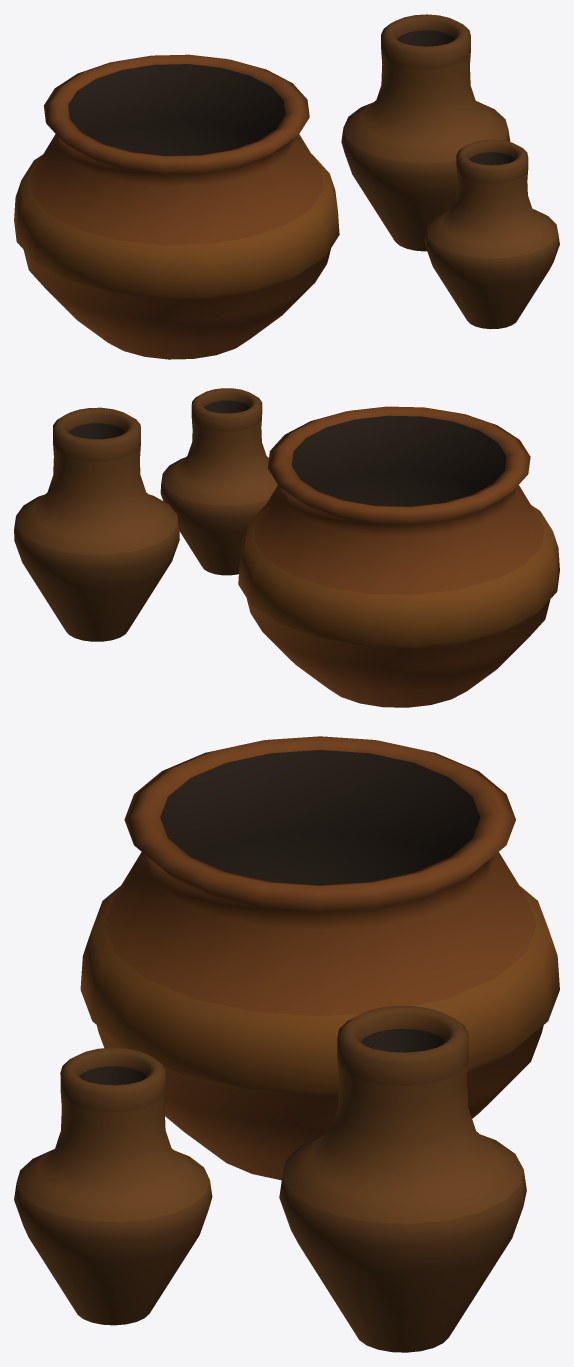
File: pottery_stand.glb
The picture shows the model from 3 angles, top to bottom: view 1: azimuth 30°, elevation 25°; view 2: azimuth 150°, elevation 25°; view 3: azimuth 270°, elevation 25°; orthographic projection. The views are drawn at different scales.
Parts seen in each view (by area): view 1: Vase_2, Vase_4 (×2); view 2: Vase_2, Vase_4 (×2); view 3: Vase_2, Vase_4 (×2).
Boxes of the visible parts, <box> form: Vase_2: <box>14,54,339,359</box>; Vase_4 (×2): <box>341,14,559,329</box>; Vase_2: <box>238,406,559,707</box>; Vase_4 (×2): <box>14,388,277,641</box>; Vase_2: <box>80,736,559,1180</box>; Vase_4 (×2): <box>14,1005,526,1352</box>.
Size of the model in its own units: 1.21 by 0.5163 by 0.7911.
